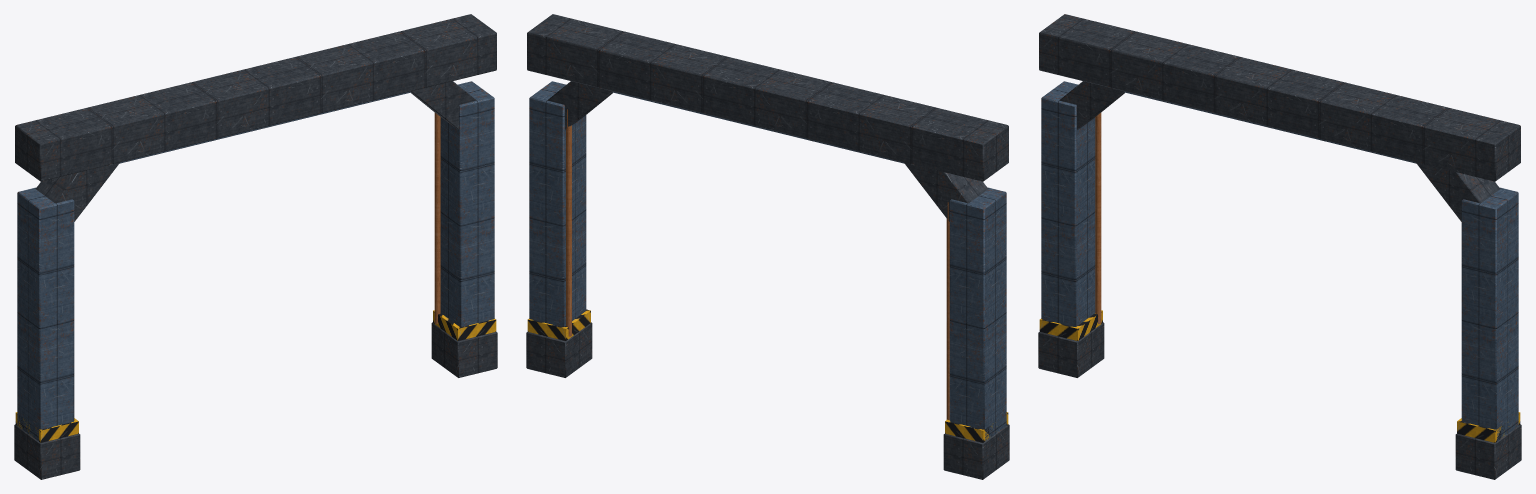
File: scifi_corridor_arch_01_free.glb
3 renders of one model, left to right at view 1: azimuth 30°, elevation 25°; view 2: azimuth 150°, elevation 25°; view 3: azimuth 330°, elevation 25°, orthographic.
Parts seen in each view (by area): view 1: arco_pasillo; view 2: arco_pasillo; view 3: arco_pasillo.
Part boxes in pixels (x1=…): arco_pasillo: x1=14, y1=14, x2=497, y2=479; arco_pasillo: x1=526, y1=14, x2=1009, y2=479; arco_pasillo: x1=1038, y1=14, x2=1521, y2=479.
Size of the model in its own units: 5.48 by 3.85 by 0.56.
4 materials, 4 textured.
